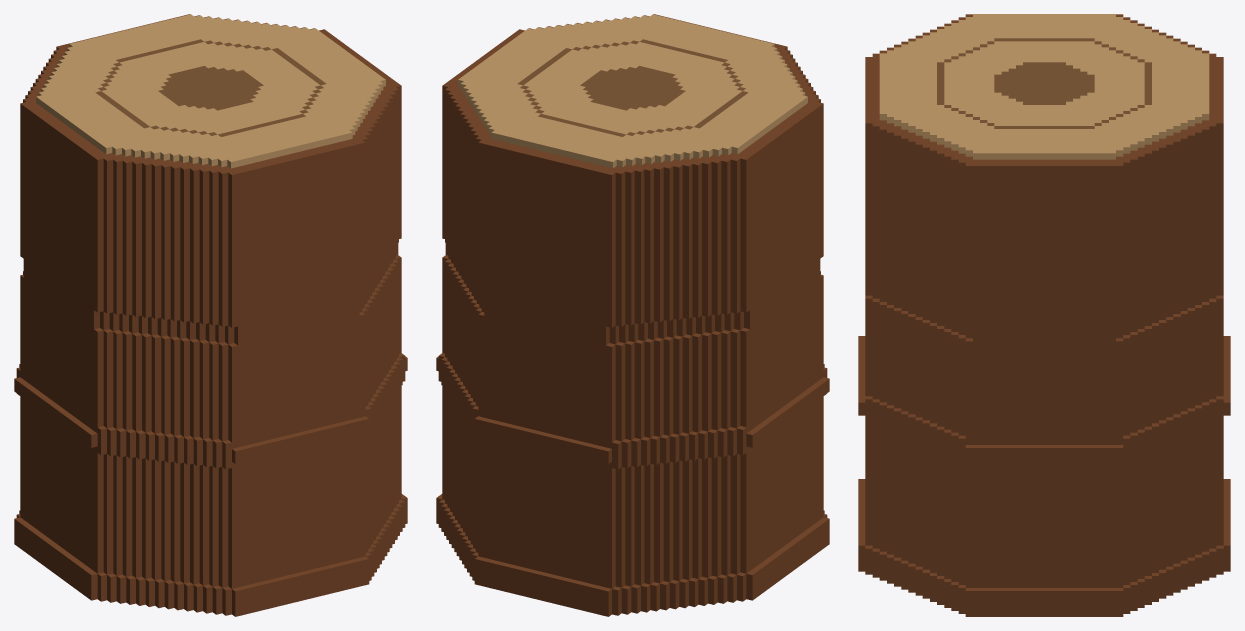
File: stool_log.glb
3 views of the same model, side by side, from view 1: azimuth 30°, elevation 25°; view 2: azimuth 150°, elevation 25°; view 3: azimuth 270°, elevation 25° (orthographic). The views are drawn at different scales.
Parts seen in each view (by area): view 1: stool_log:compound; view 2: stool_log:compound; view 3: stool_log:compound.
Boxes of the visible parts, x1,y1,x2,y2 form: stool_log:compound: [14, 14, 407, 616]; stool_log:compound: [436, 14, 829, 616]; stool_log:compound: [858, 14, 1230, 616].
Size of the model in its own units: 0.312 by 0.42 by 0.312.
